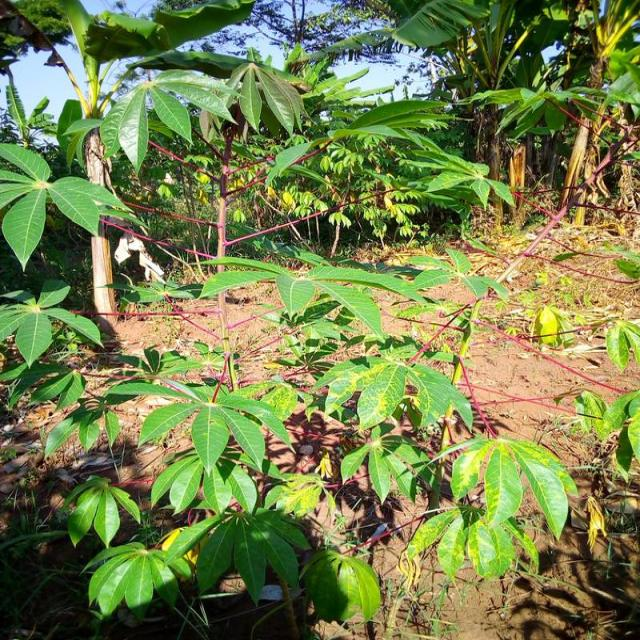cassava leaf: (302, 546, 381, 624)
